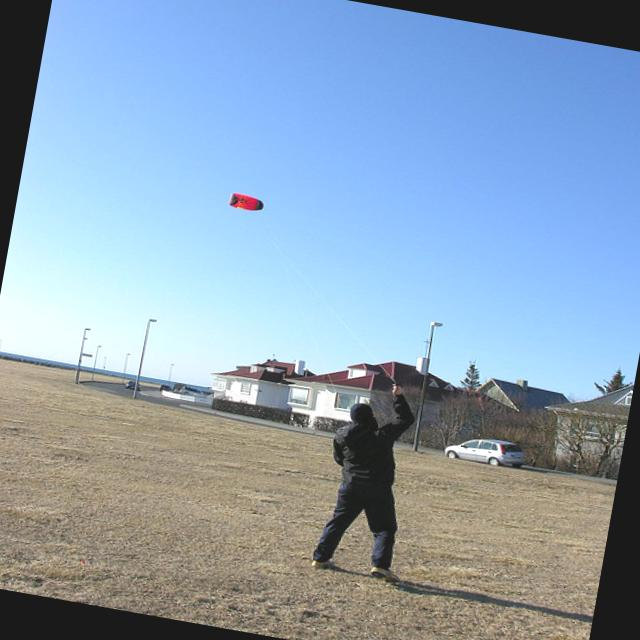Vehicle: (444, 432, 526, 469), (179, 385, 207, 398), (125, 379, 142, 391), (160, 383, 172, 392)
